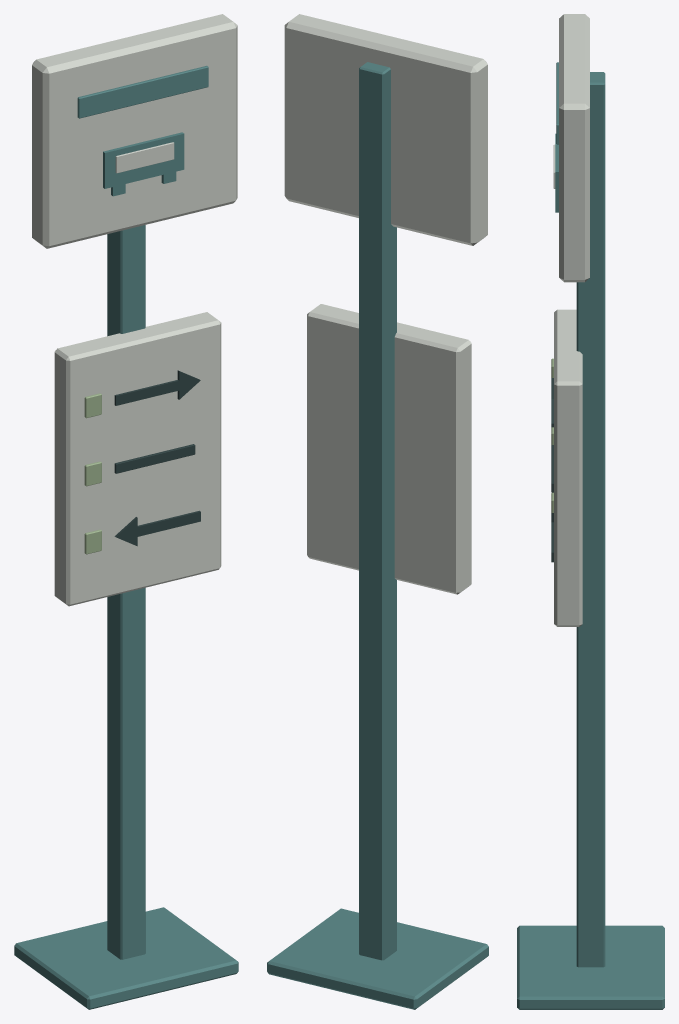
3 views of the same model, side by side, from view 1: azimuth 30°, elevation 25°; view 2: azimuth 150°, elevation 25°; view 3: azimuth 270°, elevation 25° (orthographic).
Parts seen in each view (by area): view 1: Lower route direction panel, Upper stop identity panel, Continuous sign post, Ground mounting foot, Stop identity header, Original static bus glyph, Original direction arrow 0, Original direction arrow 2, Bus window field, Route information line 1; view 2: Upper stop identity panel, Lower route direction panel, Continuous sign post, Ground mounting foot; view 3: Continuous sign post, Ground mounting foot, Lower route direction panel, Upper stop identity panel.
Boxes of the visible parts, x1,y1,x2,y2 form: Lower route direction panel: (54, 312, 221, 606); Upper stop identity panel: (32, 14, 237, 248); Continuous sign post: (107, 225, 145, 959); Ground mounting foot: (14, 907, 238, 1009); Stop identity header: (77, 65, 208, 118); Original static bus glyph: (103, 132, 184, 196); Original direction arrow 0: (114, 370, 200, 405); Original direction arrow 2: (114, 510, 200, 546); Bus window field: (115, 142, 174, 173); Route information line 1: (114, 444, 195, 473); Upper stop identity panel: (284, 14, 487, 245); Lower route direction panel: (307, 304, 471, 594); Continuous sign post: (359, 62, 396, 960); Ground mounting foot: (267, 908, 488, 1009); Continuous sign post: (576, 72, 605, 967); Ground mounting foot: (517, 925, 664, 1009); Lower route direction panel: (554, 309, 582, 626); Upper stop identity panel: (559, 14, 589, 282).
Bounding box in the file's own units: 0.54 × 2.46 × 0.36.
